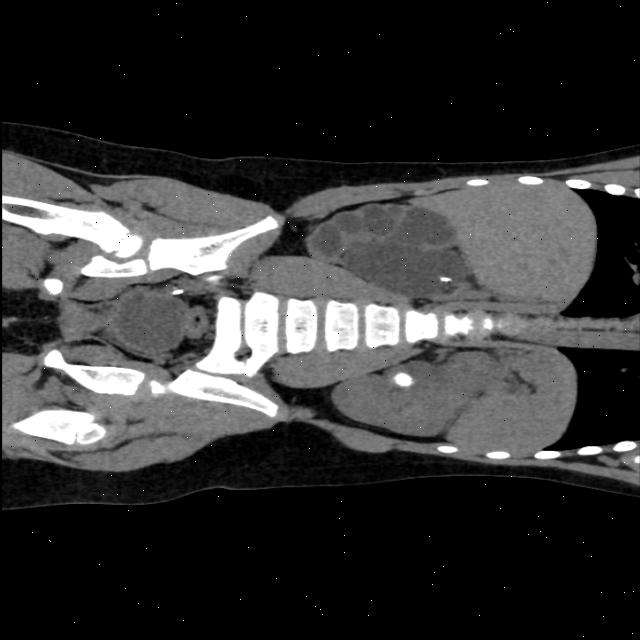kidneystone: (392, 375, 411, 381), (439, 278, 451, 282)
